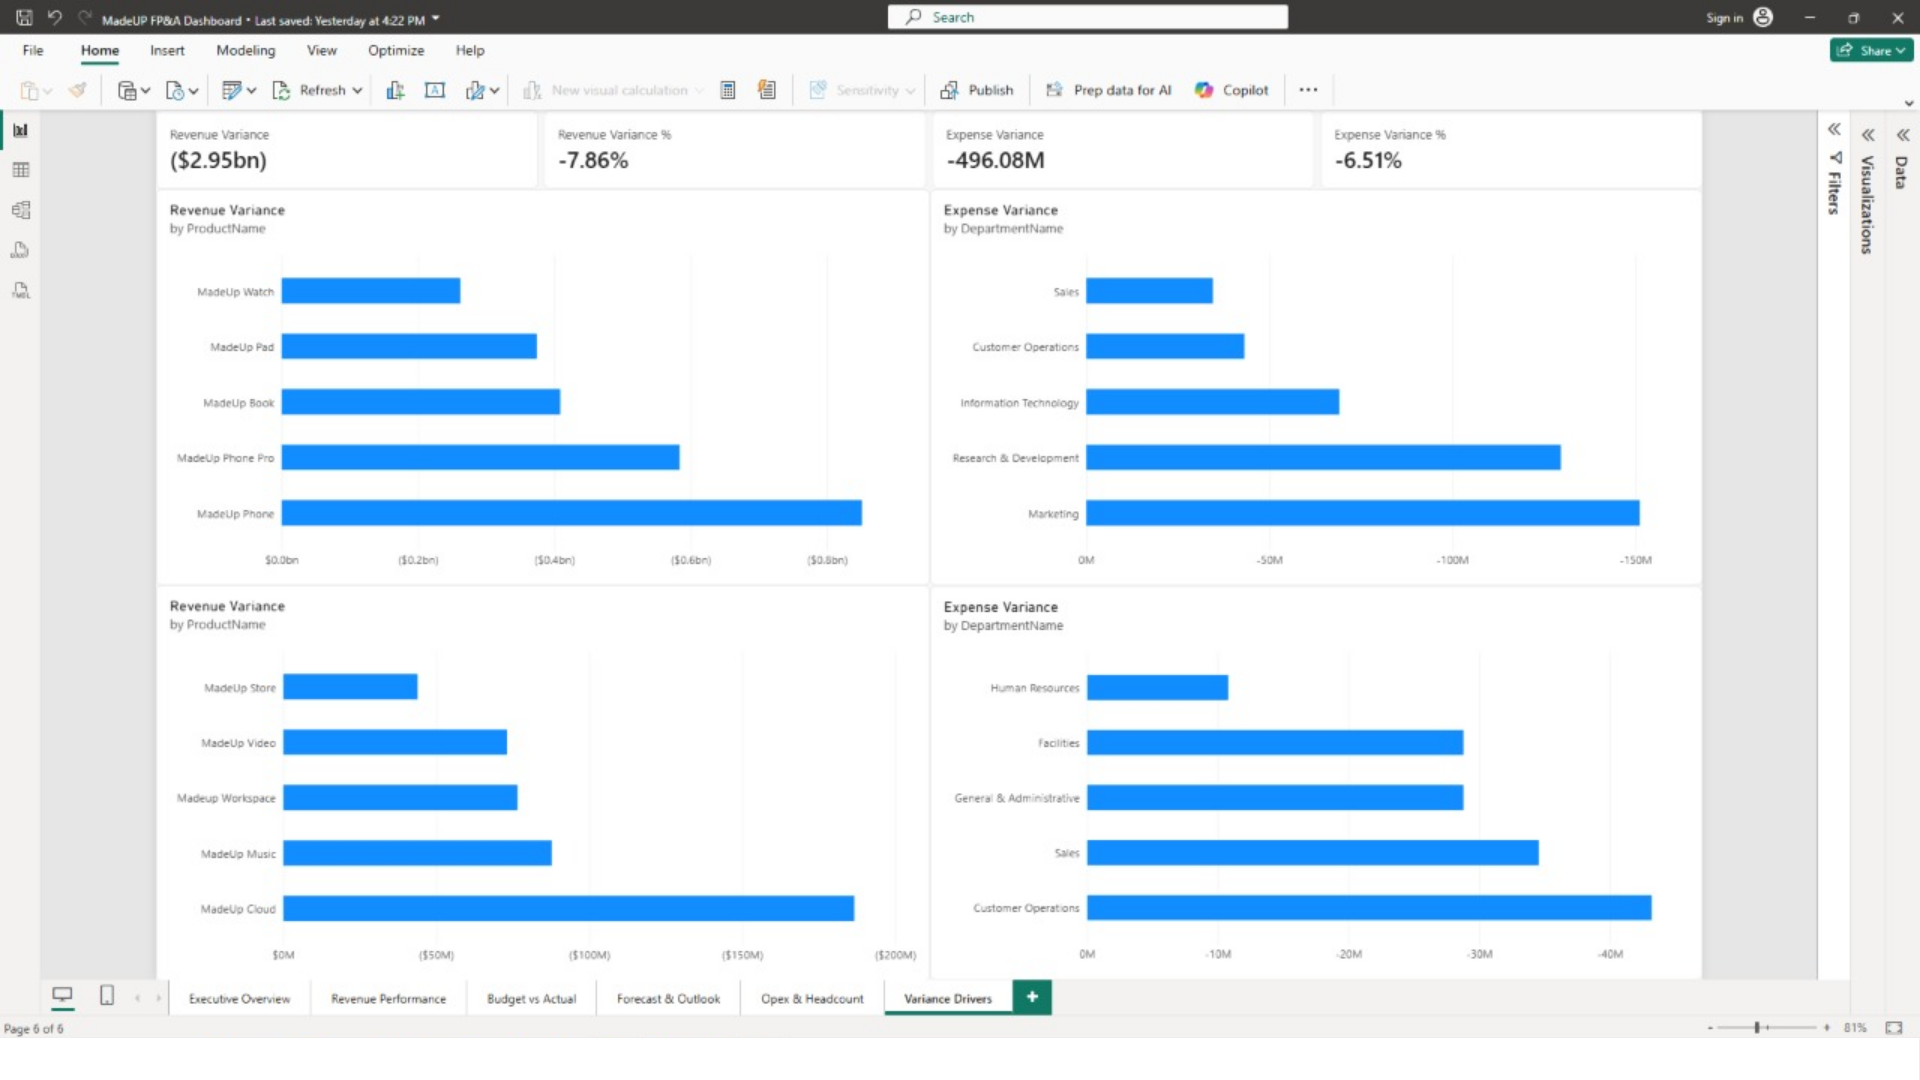

The dashboard page shown, as its layout file describes it:
{"tool":"powerbi","page":{"name":"Variance Drivers","canvas":[1920,1080],"ordinal":5},"visuals":[{"type":"clusteredBarChart","fields":{"Category":["tblProducts.ProductName"],"Y":["tblMeasures.Revenue Variance"]},"box":[0,98.2,960.8,492.3],"z":0},{"type":"clusteredBarChart","fields":{"Category":["tblProducts.ProductName"],"Y":["tblMeasures.Revenue Variance"]},"box":[0,589.9,960.7,491.7],"z":1000},{"type":"clusteredBarChart","fields":{"Category":["tblDepartments.DepartmentName"],"Y":["tblMeasures.Expense Variance"]},"box":[960.9,98.2,959.1,492.4],"z":2000},{"type":"cardVisual","fields":{"Data":["tblMeasures.Revenue Variance","tblMeasures.Revenue Variance %","tblMeasures.Expense Variance","tblMeasures.Expense Variance %"]},"box":[0,0,1920,98.2],"z":3000},{"type":"clusteredBarChart","fields":{"Category":["tblDepartments.DepartmentName"],"Y":["tblMeasures.Expense Variance"]},"box":[960.9,590.9,959.1,489.2],"z":4000}]}

Visuals, with their boxes on the page's 1920x1080 design canvas (x1, y1, x2, y2). These are canvas units, not pixel positions in the 1920x1080 screenshot, which may show the page scaled, cropped or inside an application window:
clusteredBarChart - tblProducts.ProductName x tblMeasures.Revenue Variance: box=[0, 98, 961, 590]
clusteredBarChart - tblProducts.ProductName x tblMeasures.Revenue Variance: box=[0, 590, 961, 1082]
clusteredBarChart - tblDepartments.DepartmentName x tblMeasures.Expense Variance: box=[961, 98, 1920, 591]
cardVisual - tblMeasures.Revenue Variance x tblMeasures.Revenue Variance %: box=[0, 0, 1920, 98]
clusteredBarChart - tblDepartments.DepartmentName x tblMeasures.Expense Variance: box=[961, 591, 1920, 1080]
